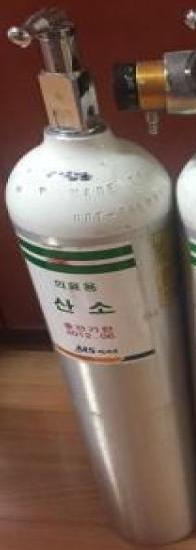cylinder: (0, 1, 196, 550)
